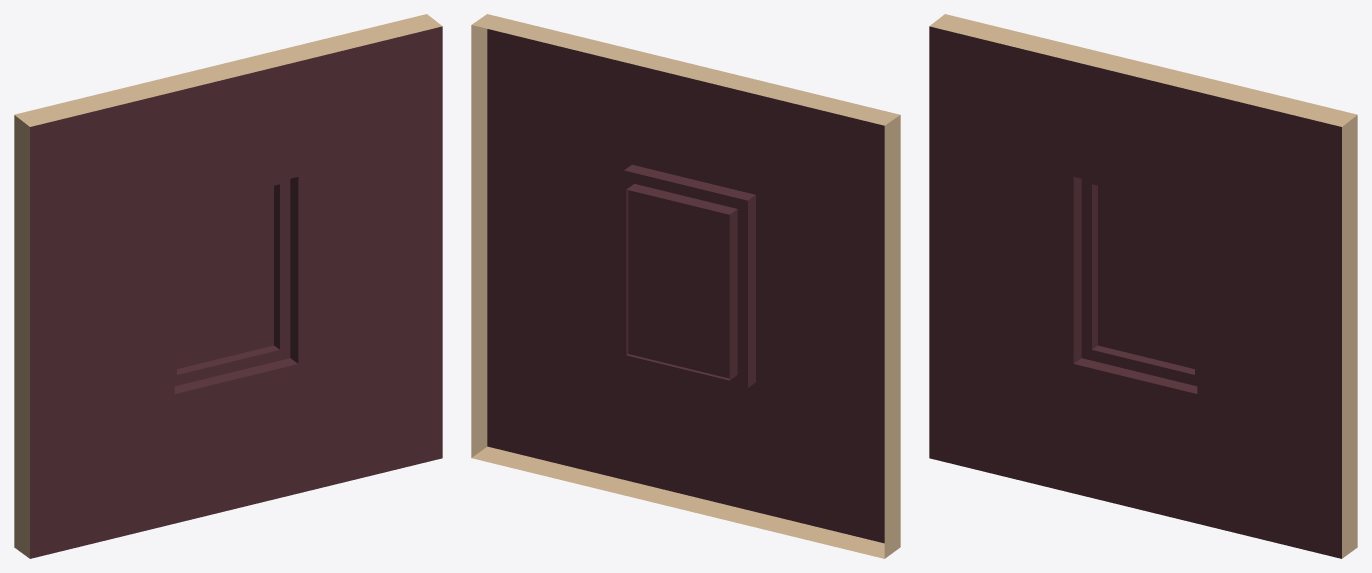
File: house-wall-window-3x3m.fbx
3 renders of one model, left to right at view 1: azimuth 30°, elevation 25°; view 2: azimuth 150°, elevation 25°; view 3: azimuth 330°, elevation 25°, orthographic.
Visible parts, largest first — view 1: house-wall-window-3x3m; view 2: house-wall-window-3x3m; view 3: house-wall-window-3x3m.
Part boxes in pixels (<box>): house-wall-window-3x3m: <box>14,14,442,558</box>; house-wall-window-3x3m: <box>471,14,900,558</box>; house-wall-window-3x3m: <box>929,14,1357,558</box>.
Size of the model in its own units: 3 by 3.01 by 0.2.
